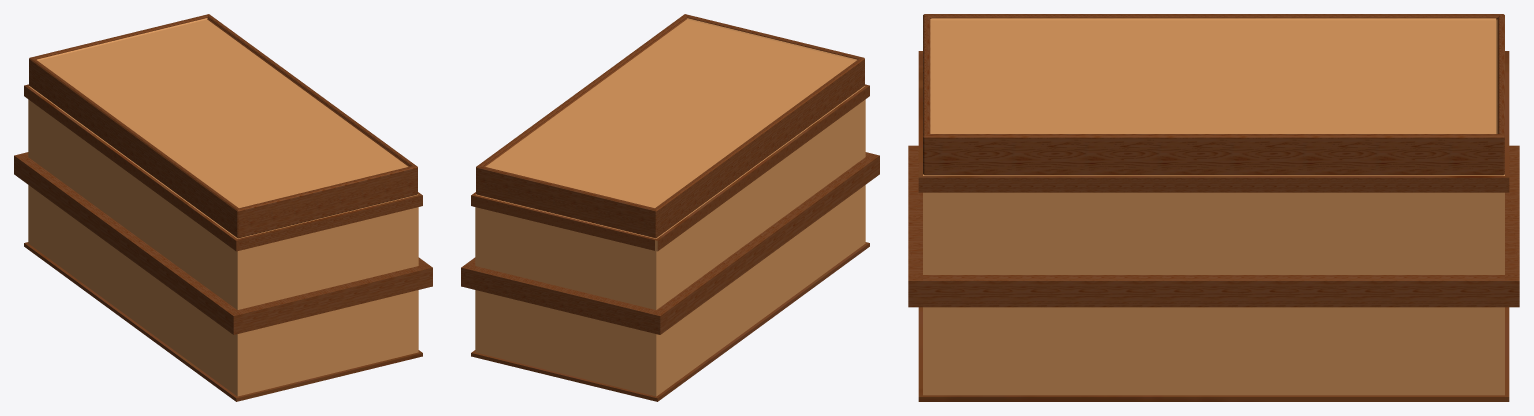
The model's file is Baú.fbx.
The picture shows the model from 3 angles, left to right: view 1: azimuth 30°, elevation 25°; view 2: azimuth 150°, elevation 25°; view 3: azimuth 270°, elevation 25°; orthographic projection. The views are drawn at different scales.
Parts seen in each view (by area): view 1: Cube.524, Cube.422; view 2: Cube.524, Cube.422; view 3: Cube.524, Cube.422.
Boxes of the visible parts, <box> form: Cube.524: <box>14,84,432,401</box>; Cube.422: <box>29,14,417,238</box>; Cube.524: <box>461,84,879,401</box>; Cube.422: <box>476,14,864,238</box>; Cube.524: <box>908,51,1519,401</box>; Cube.422: <box>923,14,1504,175</box>.
Bounding box in the file's own units: 220 × 200 × 420.
